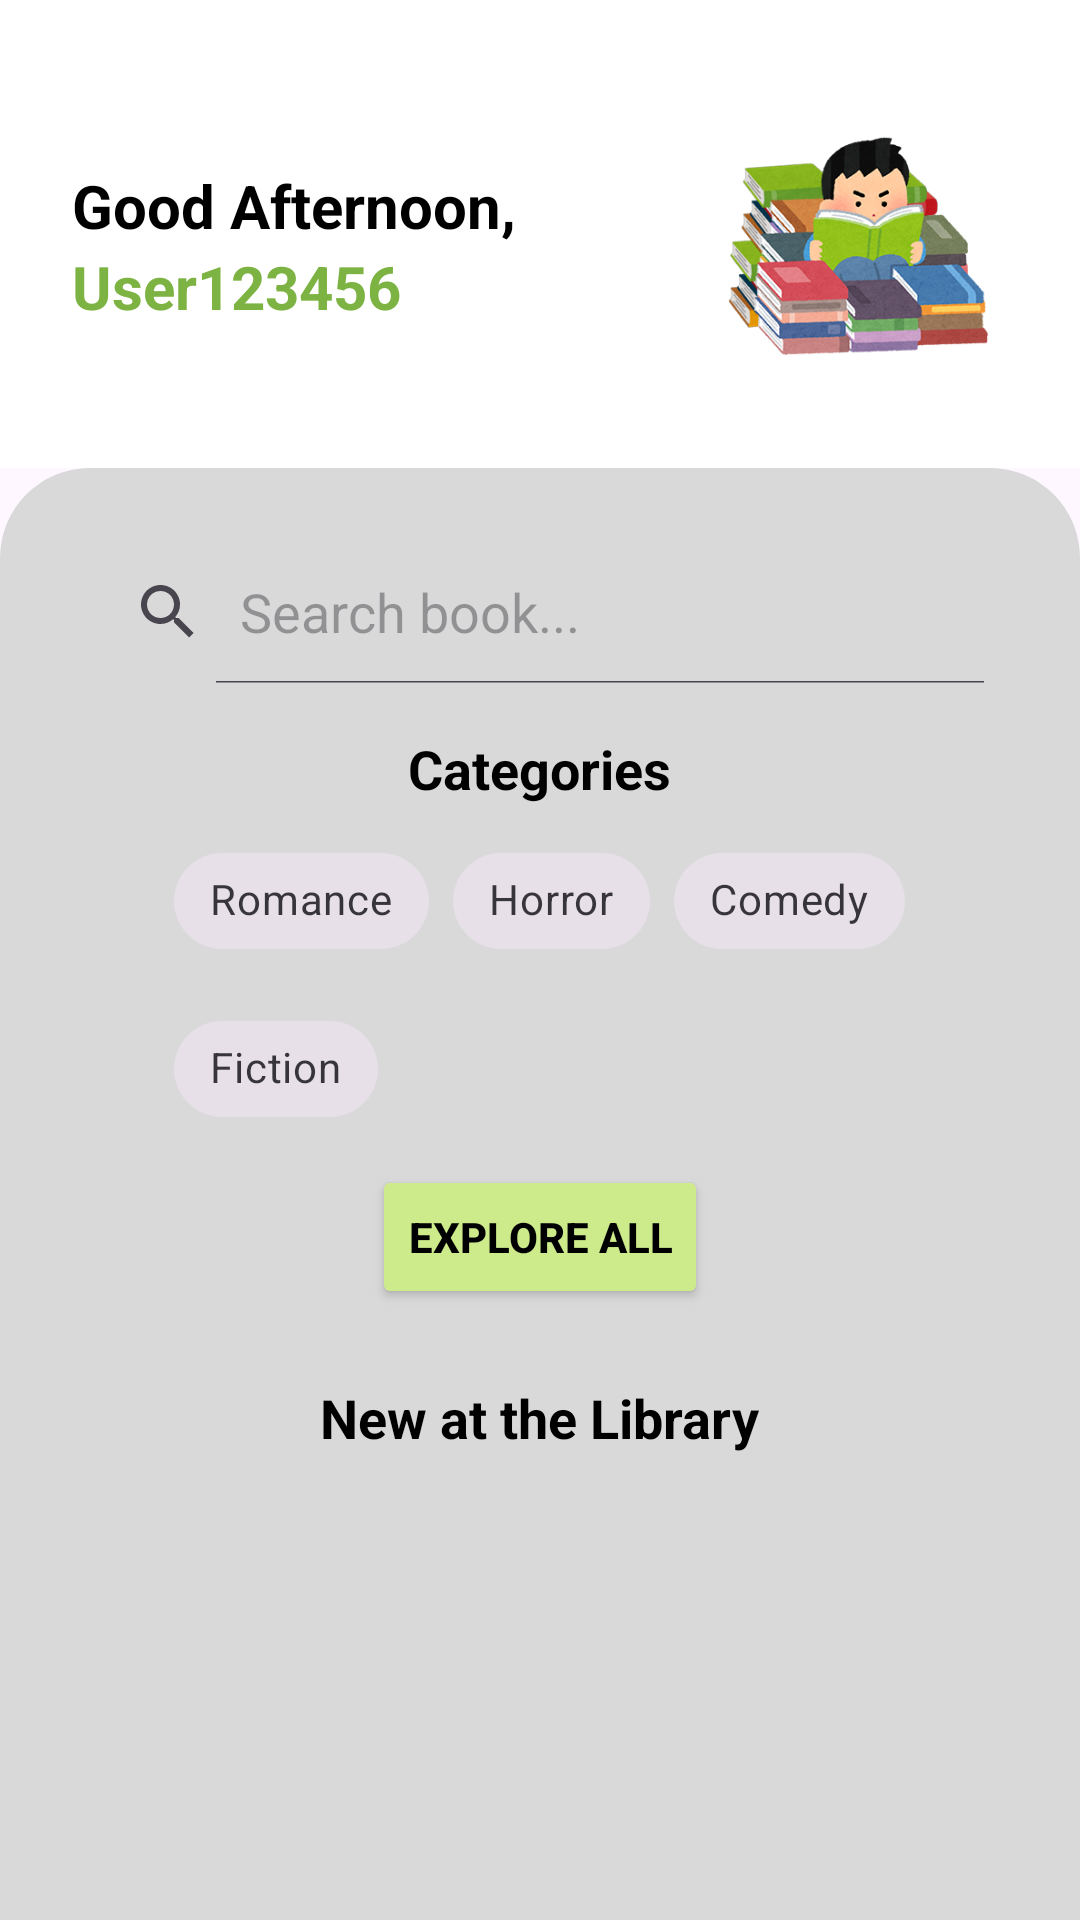

Icons on this 1080*1920 Android screen, each with the point to tap as (x,y):
library: (858,246)
